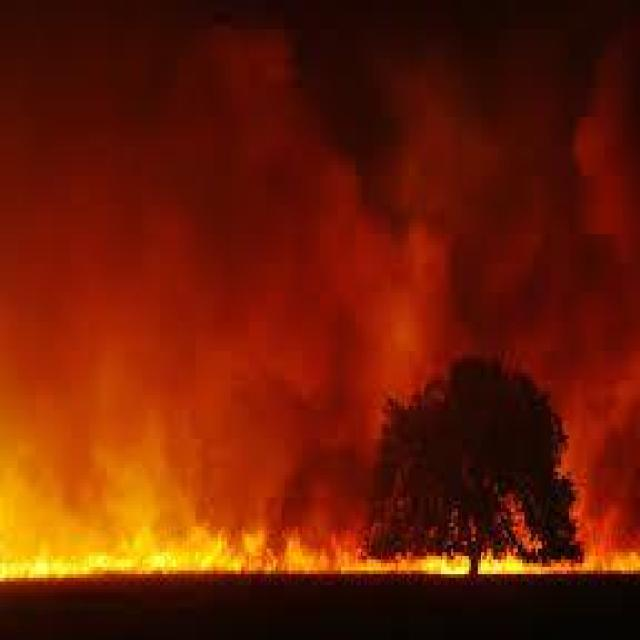fire: (8, 488, 591, 583)
smoke: (10, 4, 631, 413)
